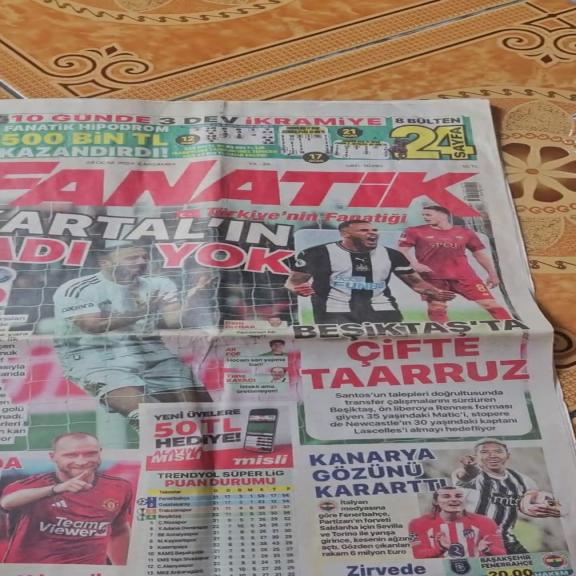Kertas: (0, 97, 533, 346), (8, 367, 562, 576)
